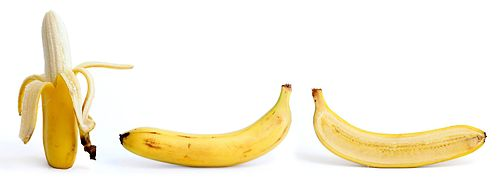banana: (305, 81, 489, 175), (117, 82, 302, 174)
